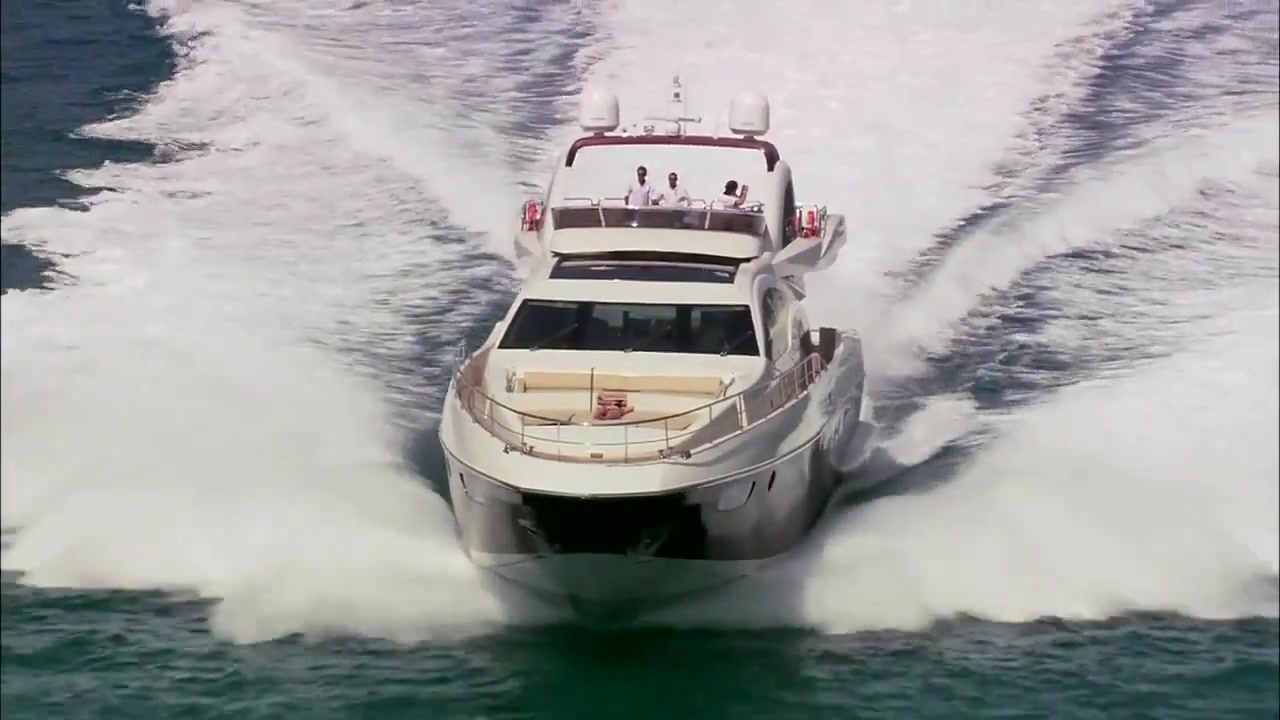boat: (435, 81, 872, 613)
